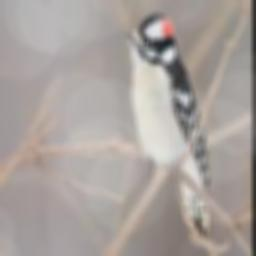Woodpecker: (124, 12, 211, 239)
